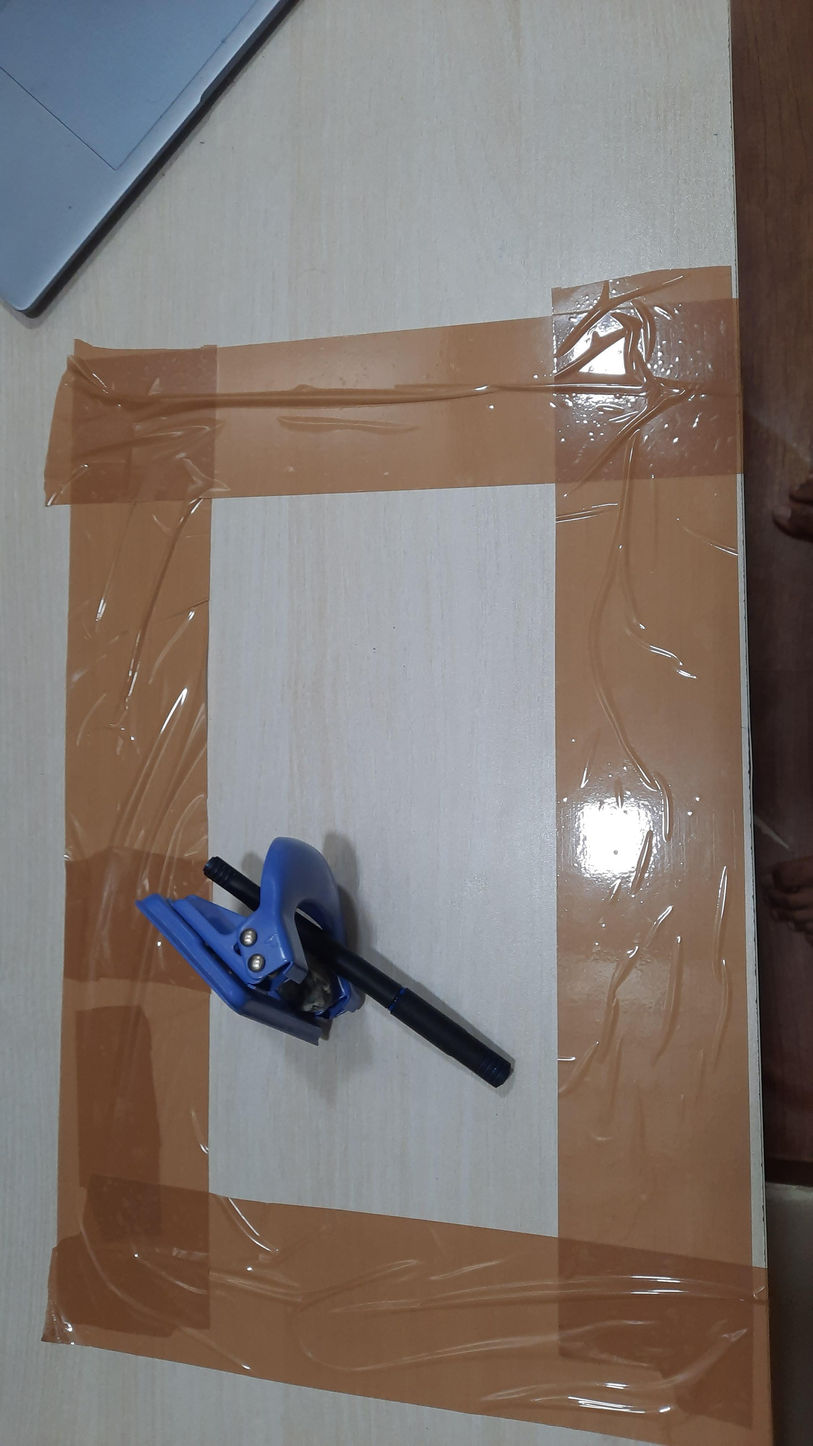Pen: (203, 856, 515, 1088)
Punch: (134, 837, 366, 1047)
